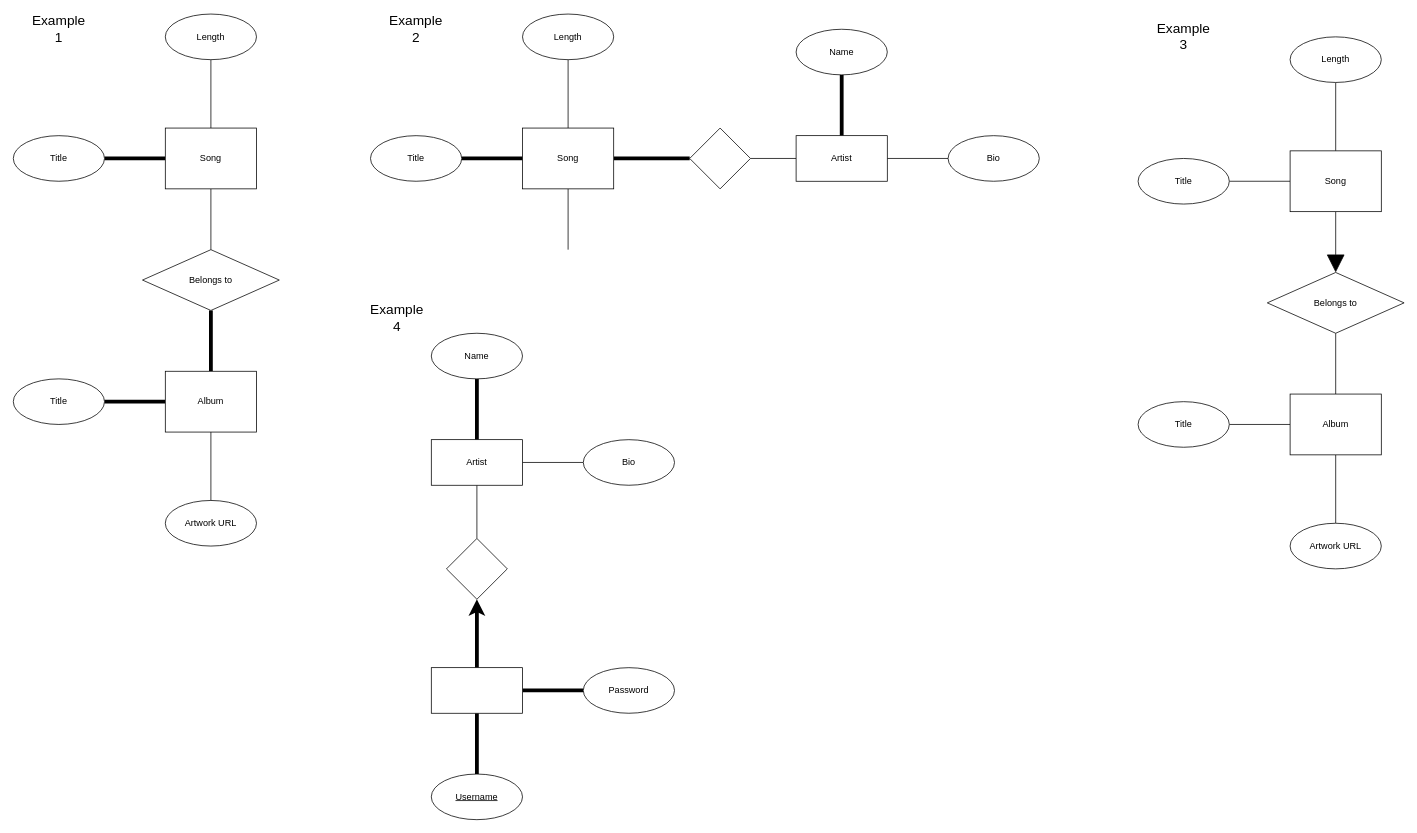
This 1417x833 diagram has some shape labels left out. The box of each missing label's shape, as (x1, y1, x2, y2) in pixels:
Has A: (446, 538, 507, 599)
User Account: (431, 667, 522, 713)
Written By: (689, 127, 750, 189)
